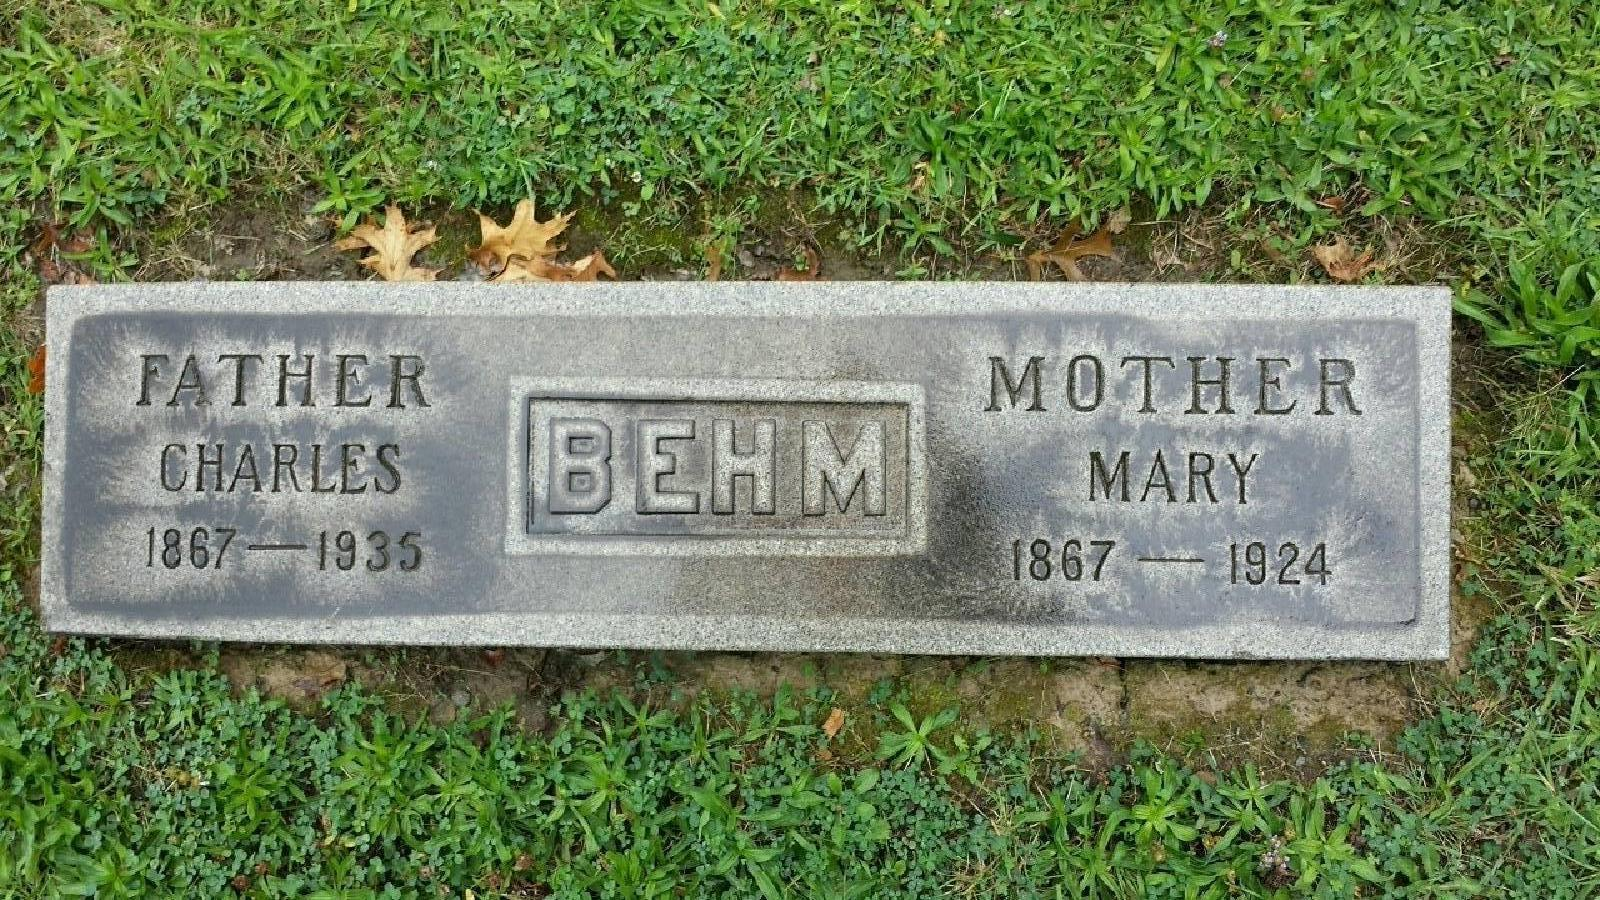flat: (37, 274, 1463, 676)
